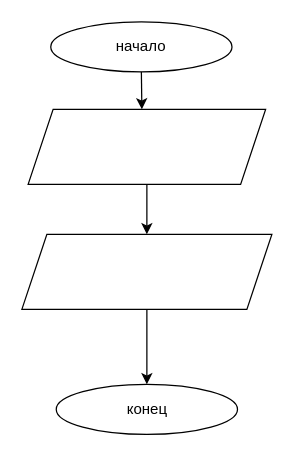
The diagram is 294 pixels wide and 456 high, and some of its shapes have lost their labels. The shapes that lost their labels are listed below. From the top down, each one's centre as x and y in pixels, then its label:
At [146,146]: "пользователь вводит номер буквы letter".
At [146,271]: "Получает: букву".
